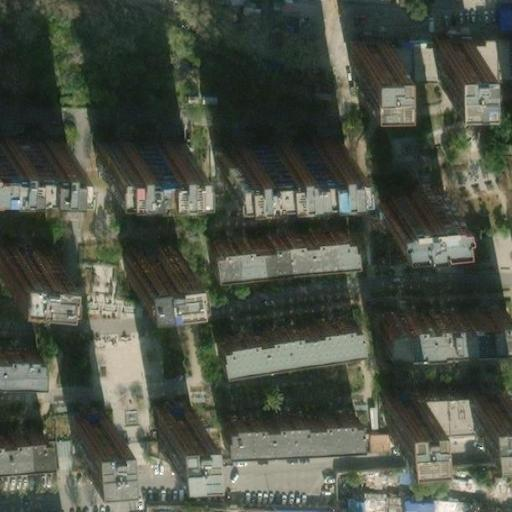building: (209, 308, 355, 363), (204, 216, 346, 254), (372, 297, 499, 334), (218, 410, 354, 444), (207, 134, 334, 166), (87, 134, 174, 162), (371, 181, 438, 214), (419, 390, 469, 431), (384, 36, 436, 75), (119, 238, 173, 272), (212, 499, 336, 512), (467, 387, 506, 428), (0, 138, 56, 166), (382, 393, 421, 433), (65, 411, 105, 449), (149, 406, 188, 443), (270, 0, 307, 38), (351, 37, 385, 75), (0, 237, 43, 267), (435, 36, 468, 74), (0, 420, 42, 448), (0, 340, 33, 367), (436, 494, 480, 512), (392, 489, 423, 512)
